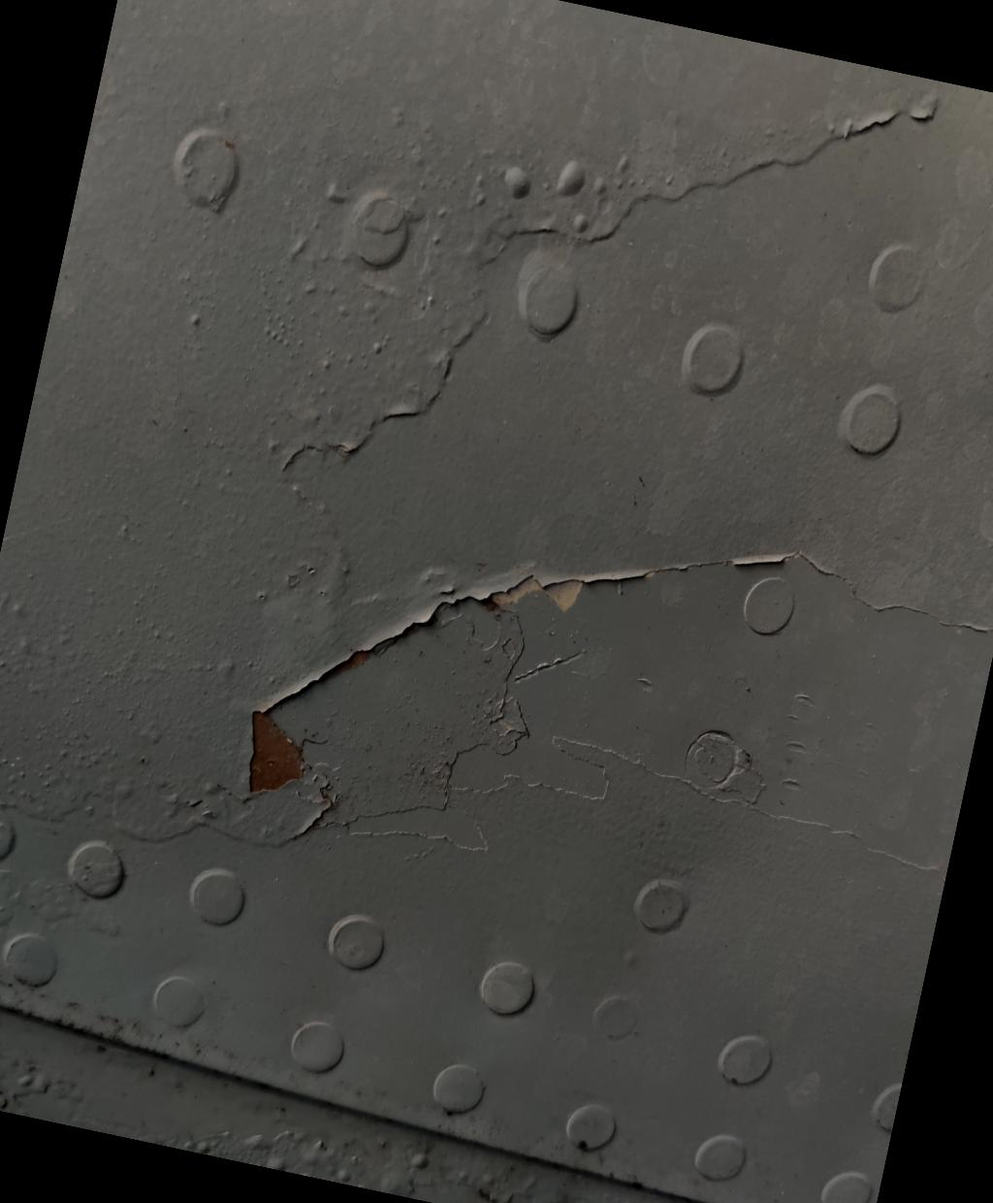corrosion: (232, 705, 318, 806)
